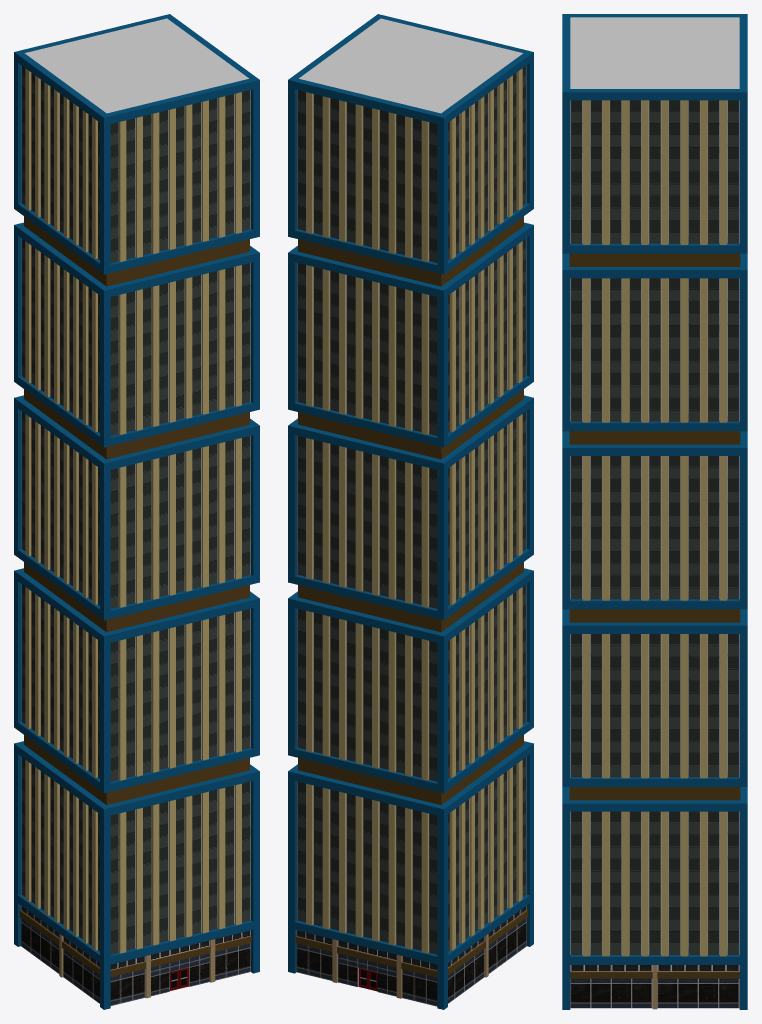
Rendered from Office-09.fbx.
The picture shows the model from 3 angles, left to right: view 1: azimuth 30°, elevation 25°; view 2: azimuth 150°, elevation 25°; view 3: azimuth 270°, elevation 25°; orthographic projection. The views are drawn at different scales.
Visible parts, largest first — view 1: Building; view 2: Building; view 3: Building.
Part boxes in pixels (x1=…): Building: x1=14, y1=14, x2=259, y2=1009; Building: x1=288, y1=14, x2=533, y2=1009; Building: x1=562, y1=14, x2=747, y2=1009.
Size of what is drawn, in the model's own units: 20.8 by 114 by 20.8.
